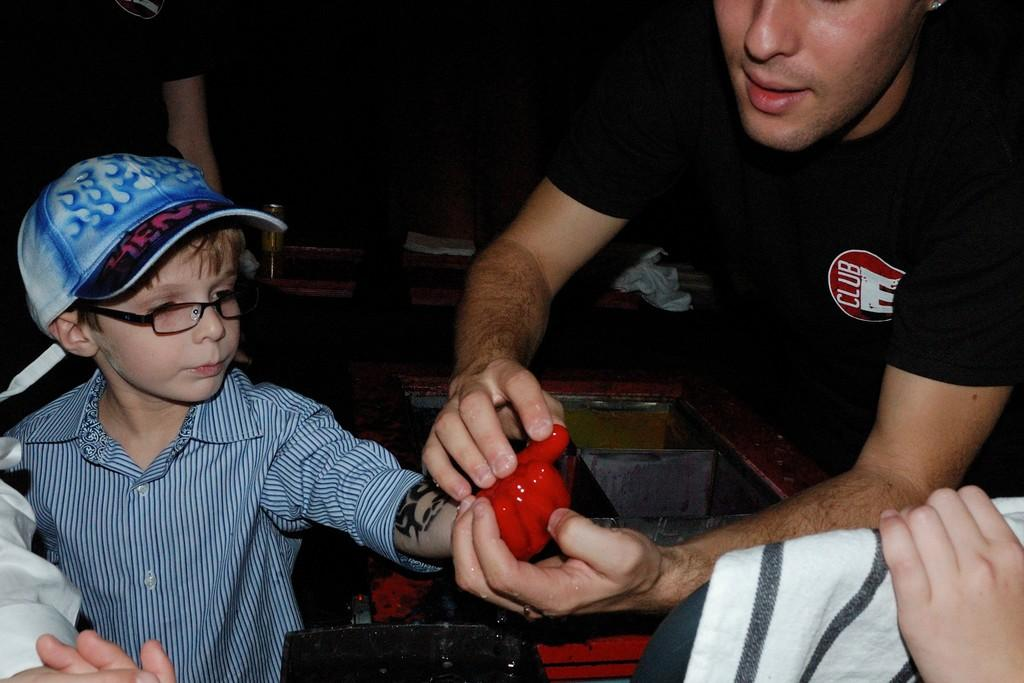Hat: (16, 150, 290, 342)
